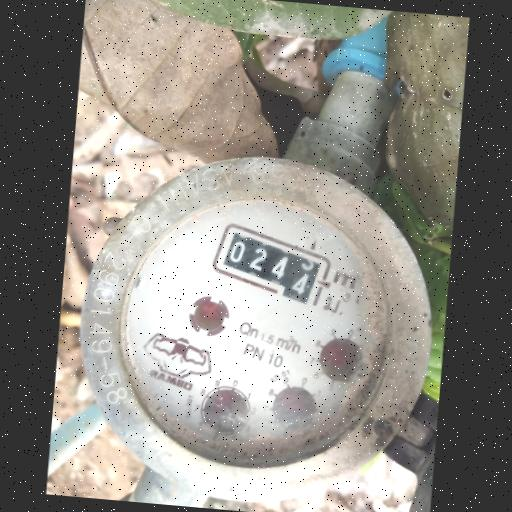0: (222, 232, 255, 272)
2: (240, 238, 277, 281)
4: (281, 253, 323, 306), (263, 246, 299, 289)
border_water_meter_number: (207, 219, 338, 311)
